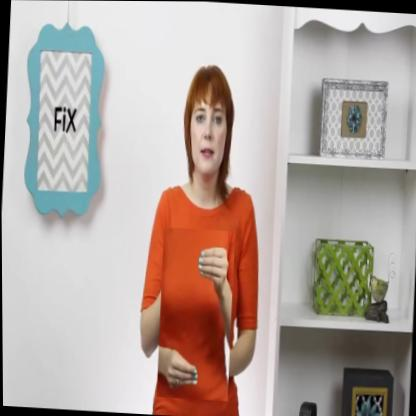Fix: (154, 226, 235, 401)
